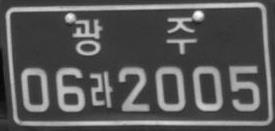0: (192, 64, 224, 112), (154, 65, 186, 112), (19, 66, 50, 113)
2: (117, 64, 151, 113)
5: (227, 63, 261, 112)
6: (54, 65, 86, 113)
광주_D: (72, 16, 197, 56)
라: (88, 70, 113, 108)
